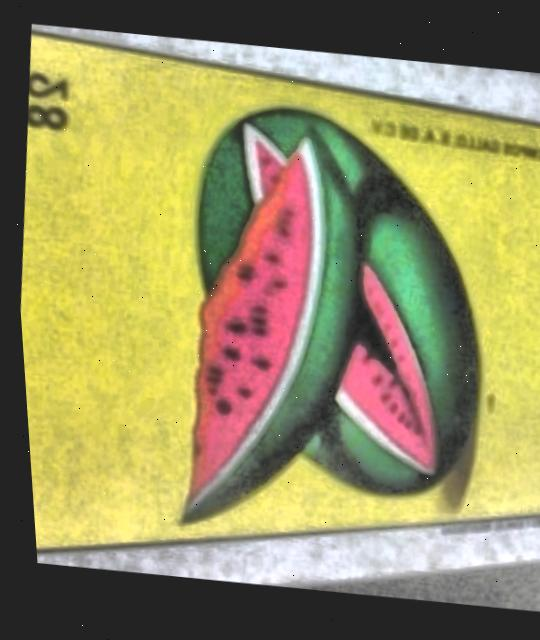La Sandia: (16, 29, 540, 548)
